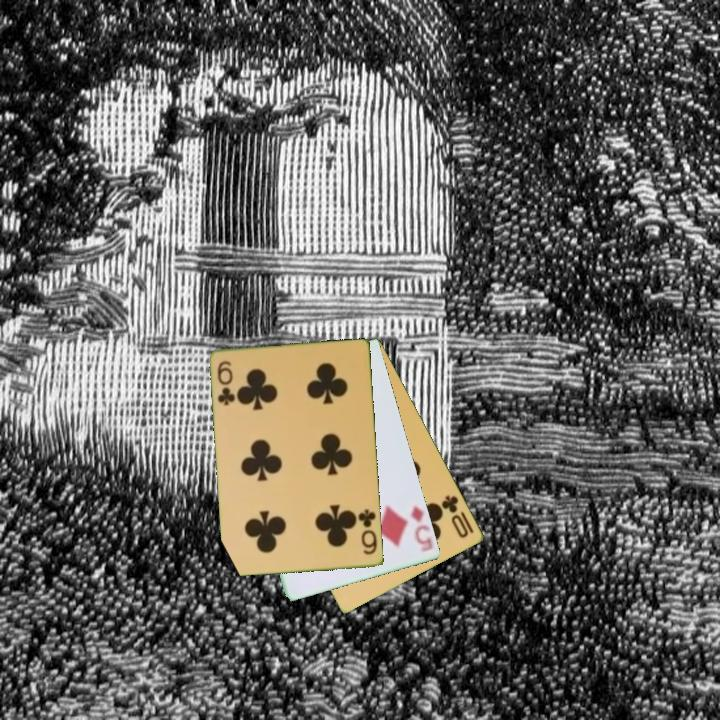10c: (438, 492, 472, 541)
5d: (407, 502, 436, 552)
6c: (355, 506, 380, 557), (214, 358, 238, 409)
